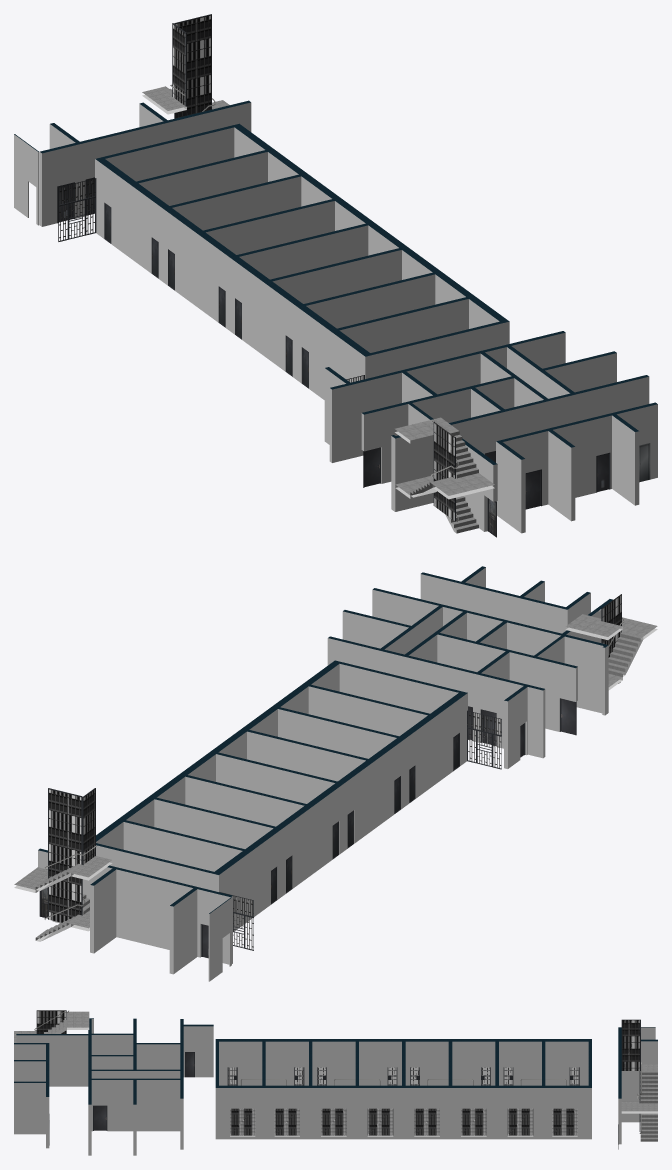
File: hkjls_hkjls_f04_in_T005.obj
3 renders of one model, top to bottom at view 1: azimuth 30°, elevation 25°; view 2: azimuth 150°, elevation 25°; view 3: azimuth 270°, elevation 25°, orthographic. The views are drawn at different scales.
Visible parts, largest first — view 1: hkjls_hkjls_f04_in_001_H005, hkjls_hkjls_f04_in_005_H005, hkjls_hkjls_f04_in_007_H005, hkjls_hkjls_f04_in_010_H005, hkjls_hkjls_f04_in_009_H005, hkjls_hkjls_f04_in_008_H005, hkjls_hkjls_f04_in_003_H005; view 2: hkjls_hkjls_f04_in_001_H005, hkjls_hkjls_f04_in_005_H005, hkjls_hkjls_f04_in_007_H005, hkjls_hkjls_f04_in_009_H005, hkjls_hkjls_f04_in_010_H005, hkjls_hkjls_f04_in_008_H005, hkjls_hkjls_f04_in_003_H005; view 3: hkjls_hkjls_f04_in_001_H005, hkjls_hkjls_f04_in_005_H005, hkjls_hkjls_f04_in_ch_T015, hkjls_hkjls_f04_in_007_H005, hkjls_hkjls_f04_in_008_H005, hkjls_hkjls_f04_in_009_H005, hkjls_hkjls_f04_in_010_H005, hkjls_hkjls_f04_in_006_H005, hkjls_hkjls_f04_in_006_l_T001, hkjls_hkjls_f04_in_034_r_T001.
Part boxes in pixels (x1=…): hkjls_hkjls_f04_in_001_H005: x1=14, y1=94, x2=657, y2=533; hkjls_hkjls_f04_in_005_H005: x1=14, y1=100, x2=657, y2=464; hkjls_hkjls_f04_in_007_H005: x1=173, y1=15, x2=454, y2=520; hkjls_hkjls_f04_in_010_H005: x1=57, y1=14, x2=610, y2=537; hkjls_hkjls_f04_in_009_H005: x1=142, y1=87, x2=494, y2=495; hkjls_hkjls_f04_in_008_H005: x1=161, y1=86, x2=478, y2=533; hkjls_hkjls_f04_in_003_H005: x1=59, y1=179, x2=363, y2=382; hkjls_hkjls_f04_in_001_H005: x1=14, y1=567, x2=657, y2=981; hkjls_hkjls_f04_in_005_H005: x1=38, y1=566, x2=612, y2=913; hkjls_hkjls_f04_in_007_H005: x1=49, y1=594, x2=621, y2=922; hkjls_hkjls_f04_in_009_H005: x1=14, y1=616, x2=657, y2=928; hkjls_hkjls_f04_in_010_H005: x1=39, y1=594, x2=621, y2=956; hkjls_hkjls_f04_in_008_H005: x1=35, y1=614, x2=642, y2=940; hkjls_hkjls_f04_in_003_H005: x1=233, y1=711, x2=501, y2=949; hkjls_hkjls_f04_in_001_H005: x1=14, y1=1019, x2=657, y2=1155; hkjls_hkjls_f04_in_005_H005: x1=14, y1=1018, x2=657, y2=1104; hkjls_hkjls_f04_in_ch_T015: x1=230, y1=1108, x2=577, y2=1135; hkjls_hkjls_f04_in_007_H005: x1=37, y1=1010, x2=639, y2=1070; hkjls_hkjls_f04_in_008_H005: x1=36, y1=1020, x2=657, y2=1141; hkjls_hkjls_f04_in_009_H005: x1=14, y1=1011, x2=657, y2=1111; hkjls_hkjls_f04_in_010_H005: x1=36, y1=1010, x2=640, y2=1144; hkjls_hkjls_f04_in_006_H005: x1=34, y1=1010, x2=641, y2=1133; hkjls_hkjls_f04_in_006_l_T001: x1=94, y1=1106, x2=106, y2=1130; hkjls_hkjls_f04_in_034_r_T001: x1=185, y1=1052, x2=194, y2=1077.
Bounding box in the file's own units: 1446 × 850 × 4556.
17 materials, 17 textured.
